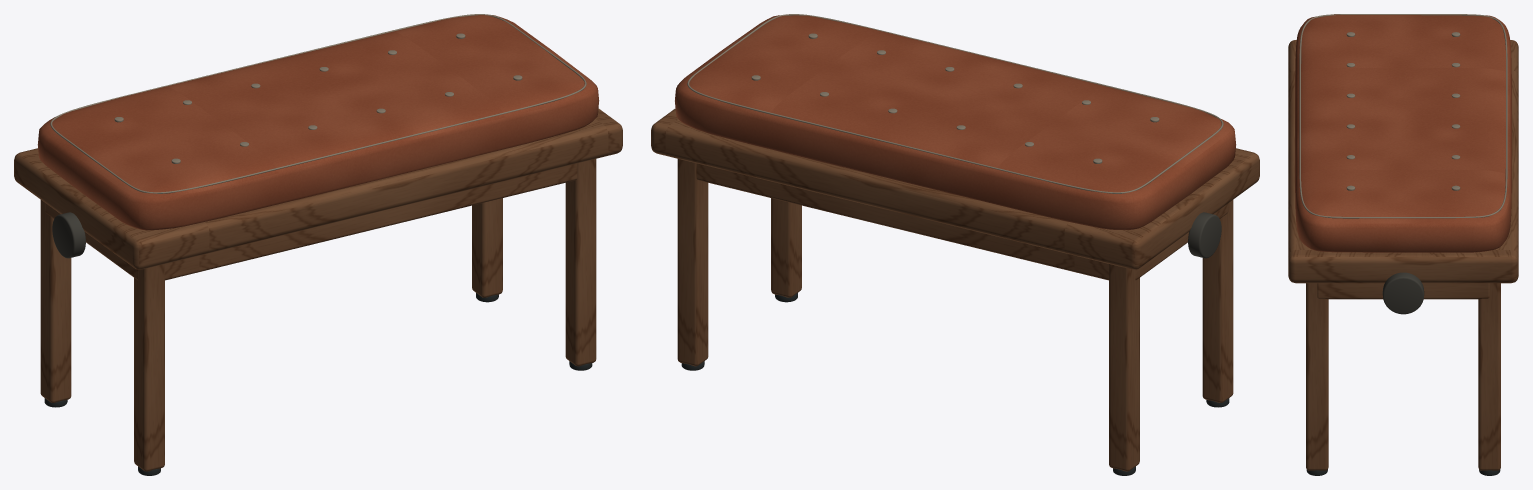
3 views of the same model, side by side, from view 1: azimuth 30°, elevation 25°; view 2: azimuth 150°, elevation 25°; view 3: azimuth 270°, elevation 25° (orthographic). The views are drawn at different scales.
Parts seen in each view (by area): view 1: Leather | broad tufted pad, Walnut | upholstered-lid frame, Frame | cross apron, Frame | timber leg.002, Frame | timber leg, Frame | timber leg.001, Frame | timber leg.003, Leather | broad tufted pad | upper tailored welt, Adjustment | knurled side wheel, Frame | side apron; view 2: Leather | broad tufted pad, Walnut | upholstered-lid frame, Frame | cross apron.001, Frame | timber leg.003, Frame | timber leg.001, Frame | timber leg, Frame | timber leg.002, Leather | broad tufted pad | upper tailored welt, Adjustment | knurled side wheel, Frame | side apron; view 3: Leather | broad tufted pad, Walnut | upholstered-lid frame, Frame | timber leg.002, Frame | timber leg.003, Frame | side apron.001, Leather | broad tufted pad | upper tailored welt, Adjustment | knurled side wheel.001.
Boxes of the visible parts, x1=… form: Leather | broad tufted pad: x1=37, y1=15, x2=599, y2=230; Walnut | upholstered-lid frame: x1=14, y1=108, x2=622, y2=269; Frame | cross apron: x1=164, y1=163, x2=577, y2=280; Frame | timber leg.002: x1=565, y1=159, x2=596, y2=366; Frame | timber leg: x1=134, y1=264, x2=164, y2=471; Frame | timber leg.001: x1=40, y1=200, x2=71, y2=402; Frame | timber leg.003: x1=472, y1=198, x2=502, y2=297; Leather | broad tufted pad | upper tailored welt: x1=50, y1=14, x2=586, y2=193; Adjustment | knurled side wheel: x1=52, y1=212, x2=85, y2=258; Frame | side apron: x1=45, y1=203, x2=138, y2=279; Leather | broad tufted pad: x1=675, y1=15, x2=1236, y2=229; Walnut | upholstered-lid frame: x1=651, y1=108, x2=1259, y2=269; Frame | cross apron.001: x1=696, y1=163, x2=1109, y2=280; Frame | timber leg.003: x1=677, y1=159, x2=708, y2=366; Frame | timber leg.001: x1=1109, y1=264, x2=1139, y2=471; Frame | timber leg: x1=1202, y1=200, x2=1233, y2=402; Frame | timber leg.002: x1=771, y1=198, x2=801, y2=297; Leather | broad tufted pad | upper tailored welt: x1=687, y1=14, x2=1223, y2=193; Adjustment | knurled side wheel: x1=1188, y1=212, x2=1221, y2=258; Frame | side apron: x1=1135, y1=203, x2=1228, y2=279; Leather | broad tufted pad: x1=1295, y1=14, x2=1511, y2=252; Walnut | upholstered-lid frame: x1=1288, y1=40, x2=1518, y2=283; Frame | timber leg.002: x1=1306, y1=283, x2=1328, y2=470; Frame | timber leg.003: x1=1478, y1=283, x2=1500, y2=470; Frame | side apron.001: x1=1317, y1=283, x2=1489, y2=299; Leather | broad tufted pad | upper tailored welt: x1=1299, y1=14, x2=1507, y2=218; Adjustment | knurled side wheel.001: x1=1382, y1=272, x2=1424, y2=314.
Bounding box in the file's own units: 1.02 × 0.55 × 0.434.
5 materials, 2 textured.
